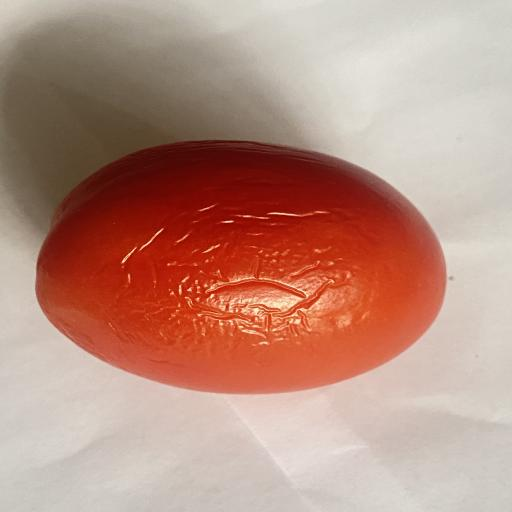spoiled: (36, 141, 446, 393)
